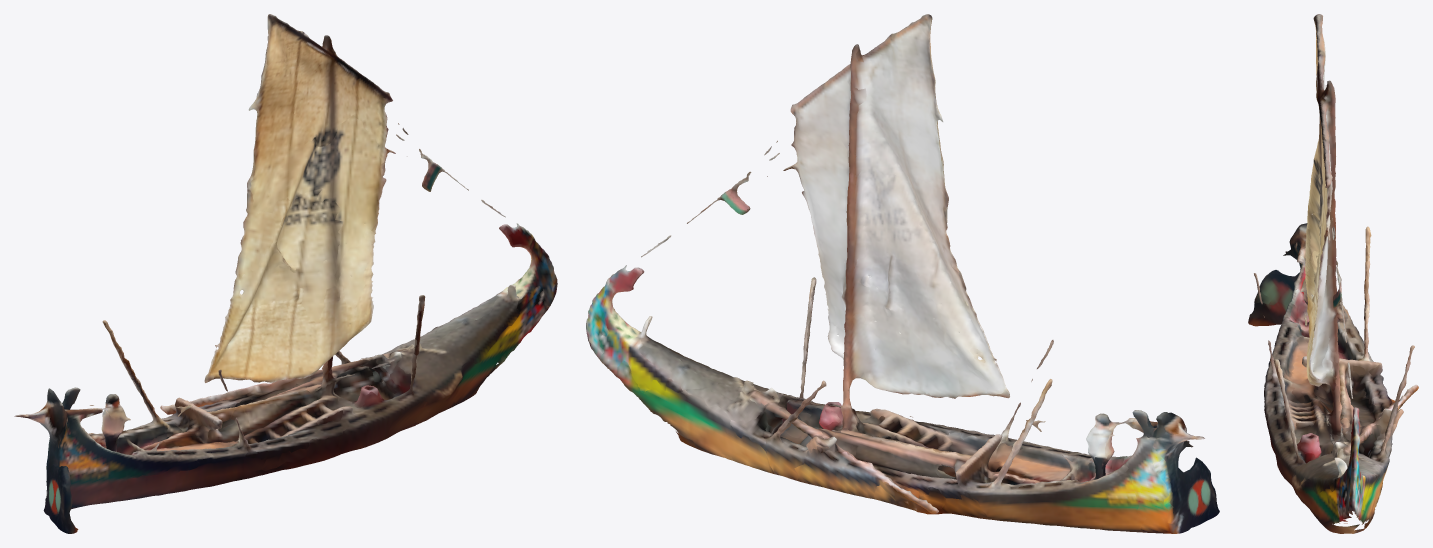
The model's file is moliceiro.glb.
3 views of the same model, side by side, from view 1: azimuth 30°, elevation 25°; view 2: azimuth 150°, elevation 25°; view 3: azimuth 270°, elevation 25° (orthographic). The views are drawn at different scales.
Parts seen in each view (by area): view 1: Object_2; view 2: Object_2; view 3: Object_2.
Part boxes in pixels (x1,y1,x2,y2): Object_2: [14, 14, 557, 533]; Object_2: [586, 14, 1219, 533]; Object_2: [1248, 14, 1418, 533].
Size of the model in its own units: 0.4925 by 0.3639 by 0.1346.
Materials: 1 (1 with a texture image).
